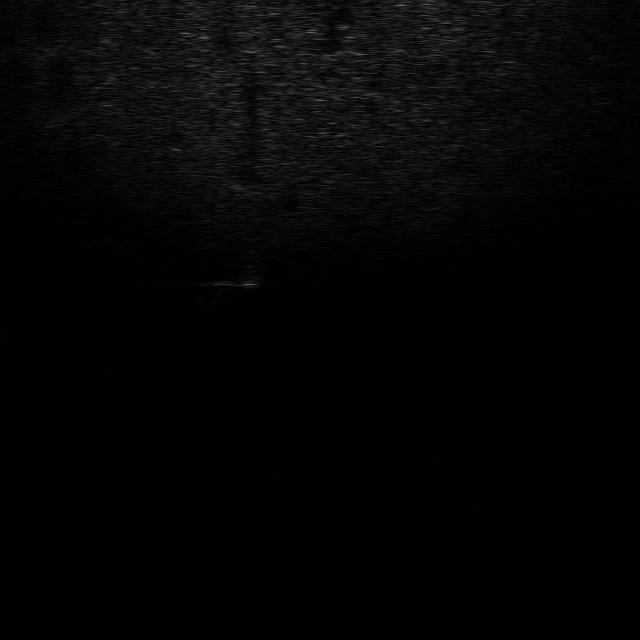human body: (212, 256, 260, 313)
